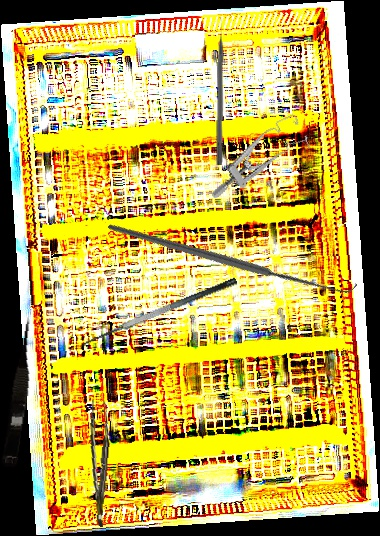Hook Surgical: (107, 130, 358, 382)
Micro Scissor: (0, 314, 41, 469)
Pusher: (215, 16, 227, 166)
Spatula Surgical: (78, 275, 243, 358)
Speculum: (195, 112, 316, 201)
Tissue Forceps: (81, 400, 114, 527)
